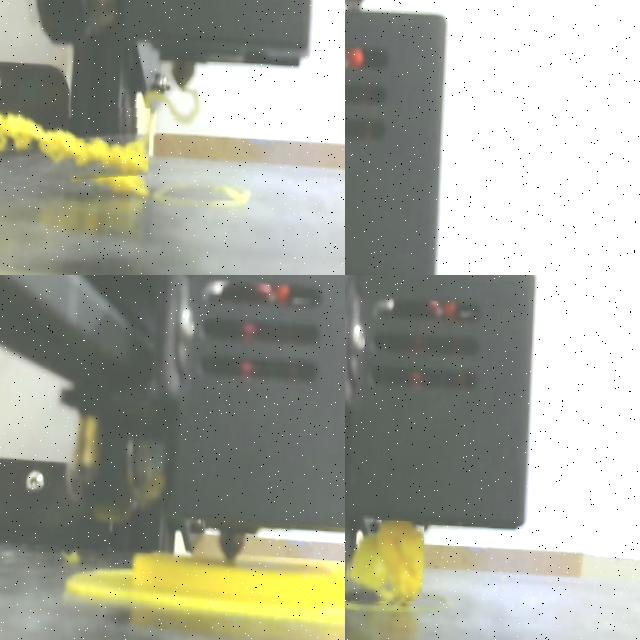spaghetti: (0, 115, 148, 179), (348, 520, 423, 602), (145, 91, 193, 119)
